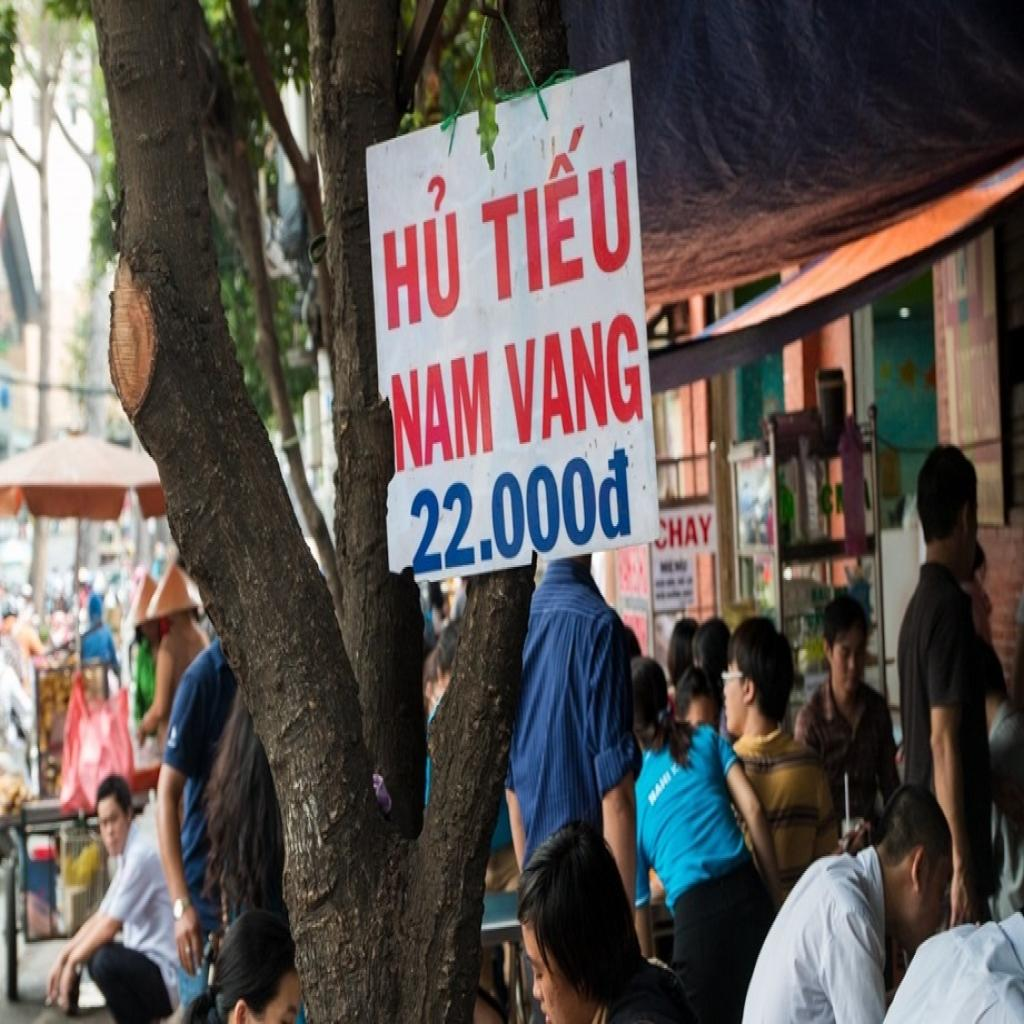text: (475, 102, 636, 314), (405, 438, 635, 586), (496, 304, 647, 457), (386, 340, 498, 483), (376, 166, 466, 339), (667, 511, 715, 554)
